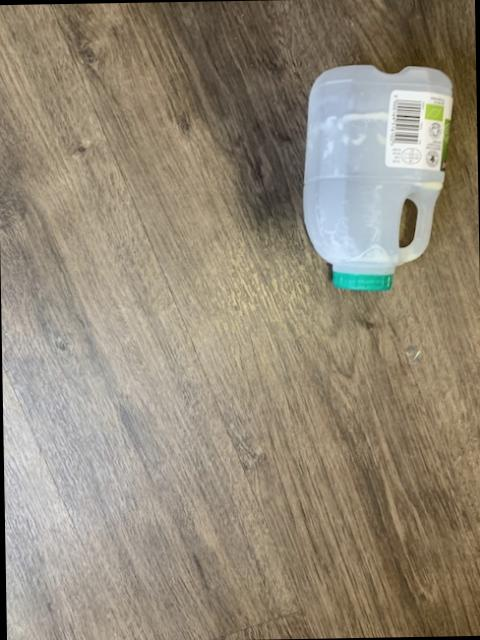plastic: (303, 67, 452, 291)
